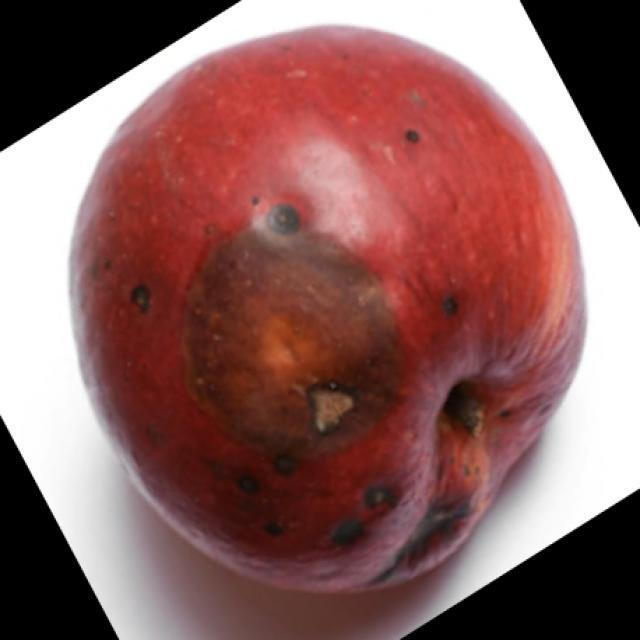Rotten: (72, 40, 578, 598)
